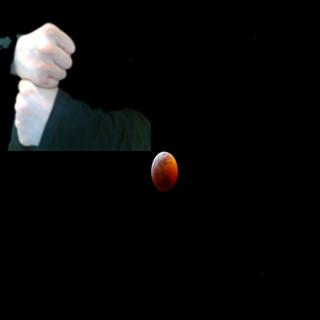CAREFUL: (9, 18, 77, 149)
